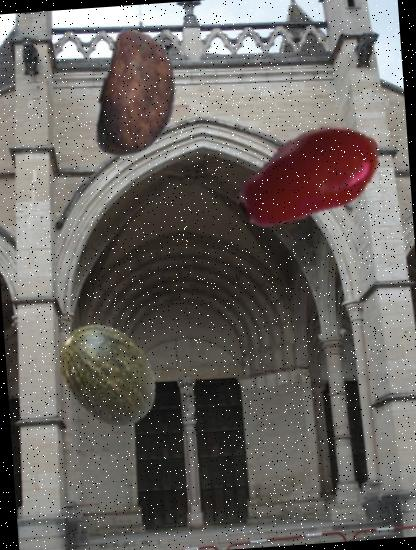Chestnut: (68, 27, 208, 167)
Melon: (47, 317, 164, 434)
Tomato: (231, 98, 390, 256)
